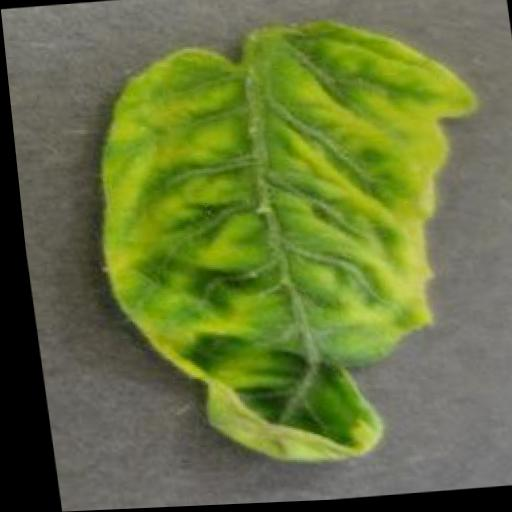Yellow Leaf Curl Virus: (69, 8, 512, 480)
